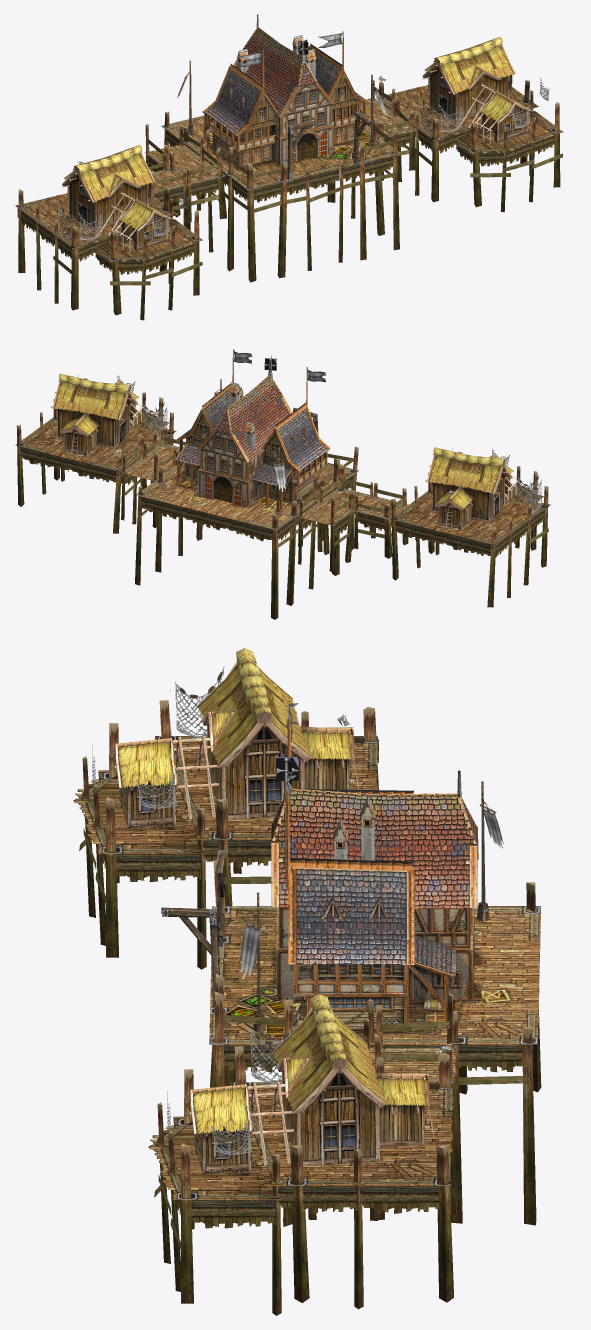
Rendered from Water World scene.obj.
3 views of the same model, one above another, from view 1: azimuth 30°, elevation 25°; view 2: azimuth 150°, elevation 25°; view 3: azimuth 270°, elevation 25° (orthographic). The views are drawn at different scales.
Visible parts, largest first — view 1: DrawCall_1412, DrawCall_1437, DrawCall_1493, DrawCall_1494, DrawCall_1489, DrawCall_1490, DrawCall_1487, DrawCall_1436, DrawCall_1488, DrawCall_1443, DrawCall_1546, DrawCall_1547 (+9 smaller); view 2: DrawCall_1412, DrawCall_1437, DrawCall_1493, DrawCall_1494, DrawCall_1489, DrawCall_1436, DrawCall_1487, DrawCall_1490, DrawCall_1488, DrawCall_1468, DrawCall_1447, DrawCall_1469 (+9 smaller); view 3: DrawCall_1412, DrawCall_1494, DrawCall_1493, DrawCall_1436, DrawCall_1490, DrawCall_1488, DrawCall_1437, DrawCall_1489, DrawCall_1487, DrawCall_1469, DrawCall_1547, DrawCall_1546 (+2 smaller).
Part boxes in pixels (<box>): DrawCall_1412: <box>202,14,369,166</box>; DrawCall_1437: <box>164,104,399,282</box>; DrawCall_1493: <box>62,145,172,252</box>; DrawCall_1494: <box>422,37,532,144</box>; DrawCall_1489: <box>17,183,202,320</box>; DrawCall_1490: <box>379,74,562,212</box>; DrawCall_1487: <box>15,193,202,262</box>; DrawCall_1436: <box>161,115,400,190</box>; DrawCall_1488: <box>375,85,563,154</box>; DrawCall_1443: <box>169,145,226,222</box>; DrawCall_1546: <box>59,186,188,240</box>; DrawCall_1547: <box>420,77,549,132</box>; DrawCall_1412: <box>175,349,330,509</box>; DrawCall_1437: <box>135,445,358,619</box>; DrawCall_1493: <box>425,447,520,529</box>; DrawCall_1494: <box>50,373,145,455</box>; DrawCall_1489: <box>391,451,548,607</box>; DrawCall_1436: <box>136,462,358,530</box>; DrawCall_1487: <box>390,483,550,545</box>; DrawCall_1490: <box>16,378,173,533</box>; DrawCall_1488: <box>15,410,176,471</box>; DrawCall_1468: <box>298,480,353,572</box>; DrawCall_1447: <box>354,482,408,558</box>; DrawCall_1469: <box>121,435,176,527</box>; DrawCall_1412: <box>271,719,478,1028</box>; DrawCall_1494: <box>184,994,439,1174</box>; DrawCall_1493: <box>109,648,364,828</box>; DrawCall_1436: <box>209,906,540,1044</box>; DrawCall_1490: <box>154,1046,457,1315</box>; DrawCall_1488: <box>148,1082,452,1199</box>; DrawCall_1437: <box>210,860,541,1226</box>; DrawCall_1489: <box>79,700,378,969</box>; DrawCall_1487: <box>73,736,377,853</box>; DrawCall_1469: <box>375,994,453,1133</box>; DrawCall_1547: <box>167,1013,299,1154</box>; DrawCall_1546: <box>92,667,224,808</box>.
Size of what is drawn, in the model's own units: 415 by 171 by 190.
9 materials, 9 textured.
